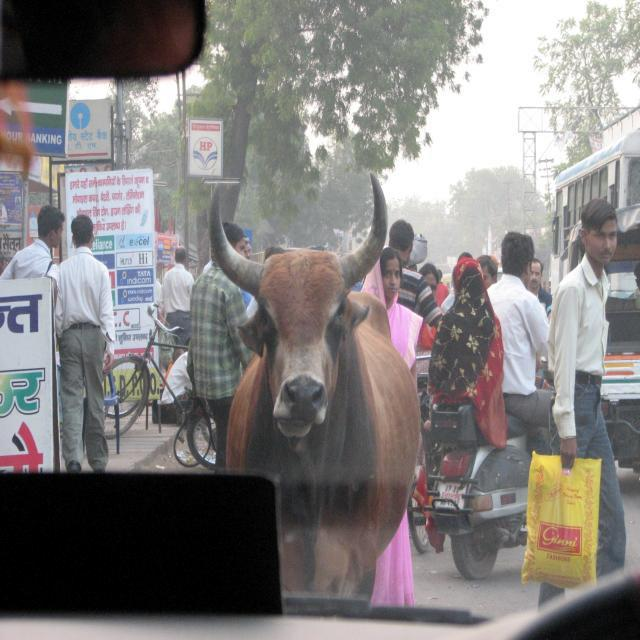COW: (210, 175, 420, 598)
